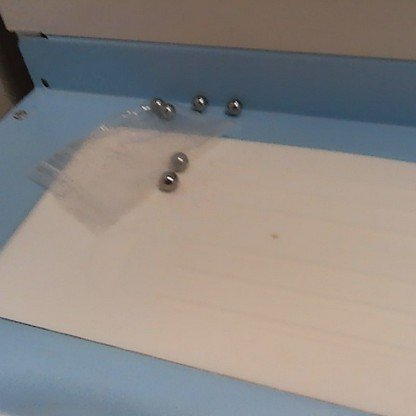ironball: (156, 169, 179, 193), (166, 147, 188, 170), (221, 96, 244, 116), (189, 90, 208, 113), (154, 98, 174, 119), (142, 91, 161, 106)
